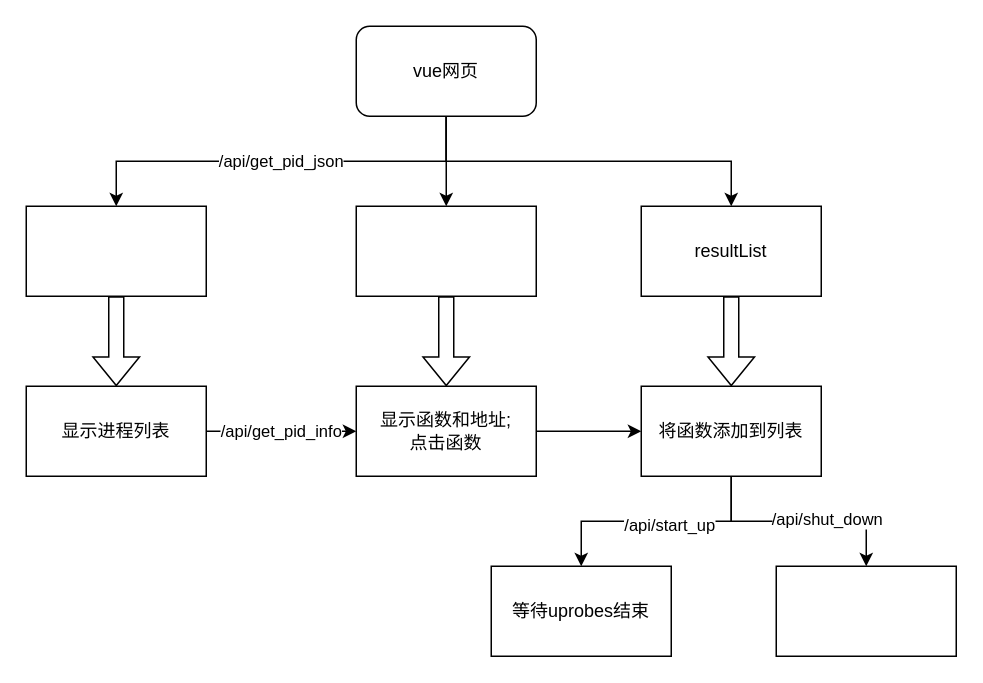
The diagram is 983 pixels wide and 683 high, and some of its shapes have lost their labels. The shapes that lost their labels are listed below. From the top down, each one's box as (x1, y1, x2, y2) in pixels, then its label:
(25, 205, 206, 296): processList
(355, 205, 536, 296): funcList
(775, 565, 956, 656): 显示uprobes结果
